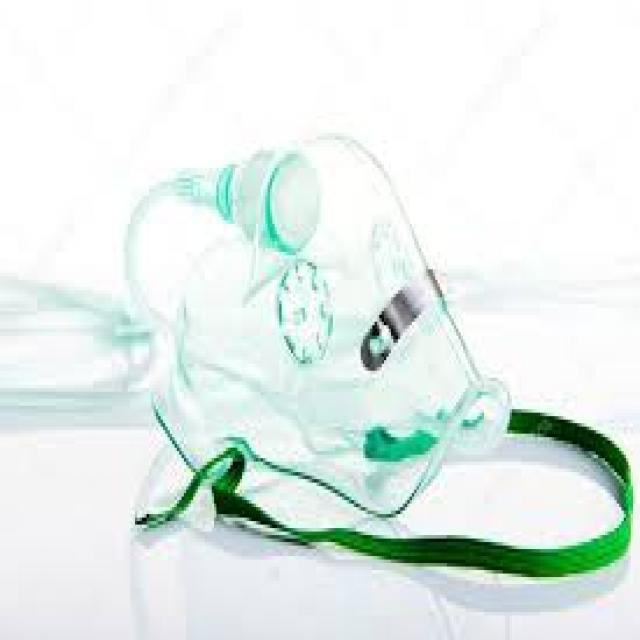oxygen_mask: (84, 154, 494, 544)
